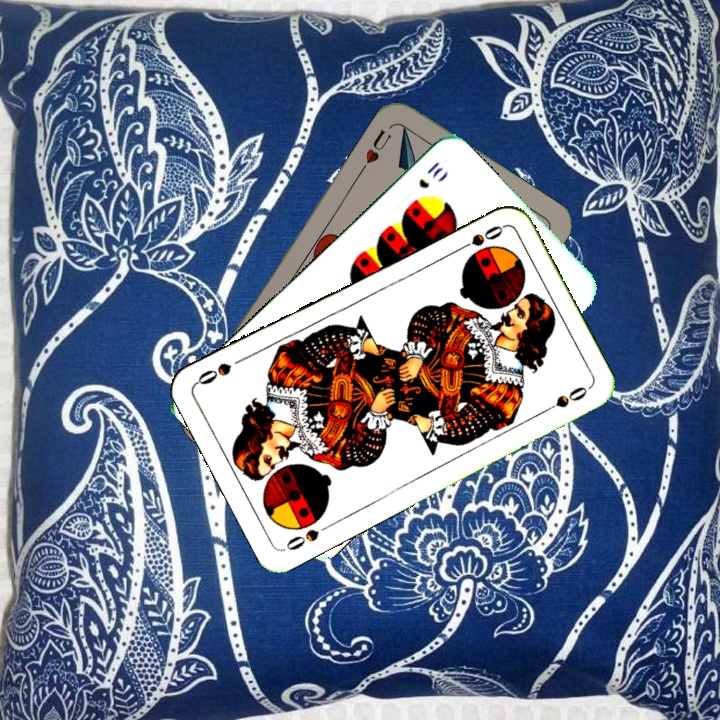HU: (357, 125, 394, 174)
S10: (414, 157, 446, 191)
SO: (451, 221, 506, 255), (280, 519, 335, 553)
